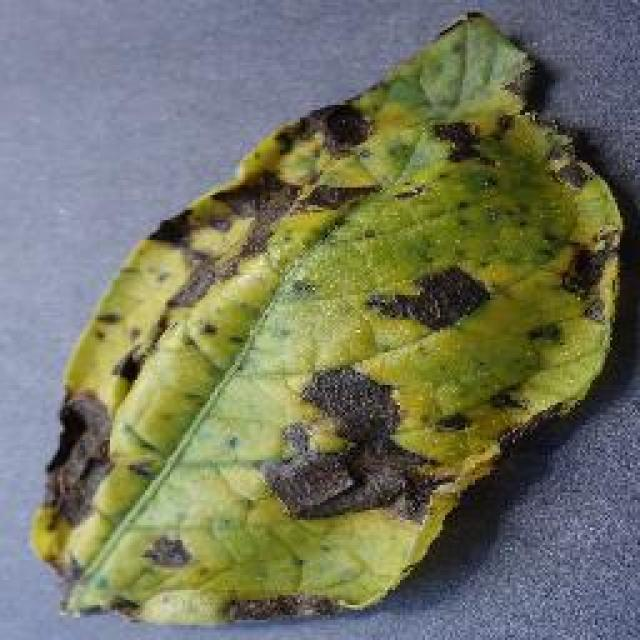Potato: (27, 7, 625, 625)
